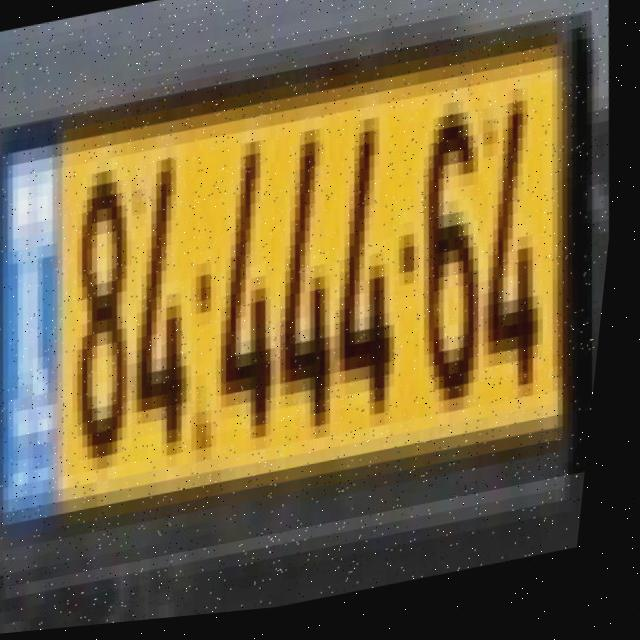LicensePlate: (0, 19, 635, 594)
